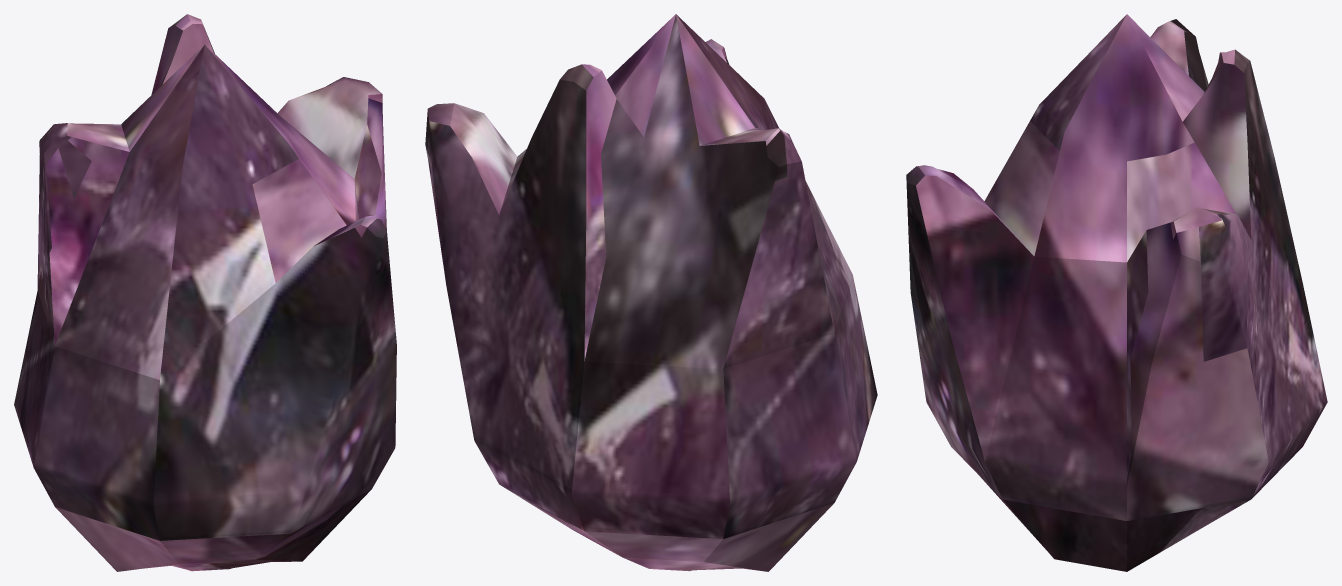
The model's file is Crystal.fbx.
3 views of the same model, side by side, from view 1: azimuth 30°, elevation 25°; view 2: azimuth 150°, elevation 25°; view 3: azimuth 270°, elevation 25° (orthographic). The views are drawn at different scales.
Visible parts, largest first — view 1: pCylinder1; view 2: pCylinder1; view 3: pCylinder1.
Boxes of the visible parts, left/top/right/bottom form: pCylinder1: left=14, top=14, right=396, bottom=571; pCylinder1: left=425, top=14, right=877, bottom=571; pCylinder1: left=906, top=14, right=1327, bottom=571.
Size of the model in its own units: 2.8 by 3.61 by 2.68.
Materials: 1 (1 with a texture image).
